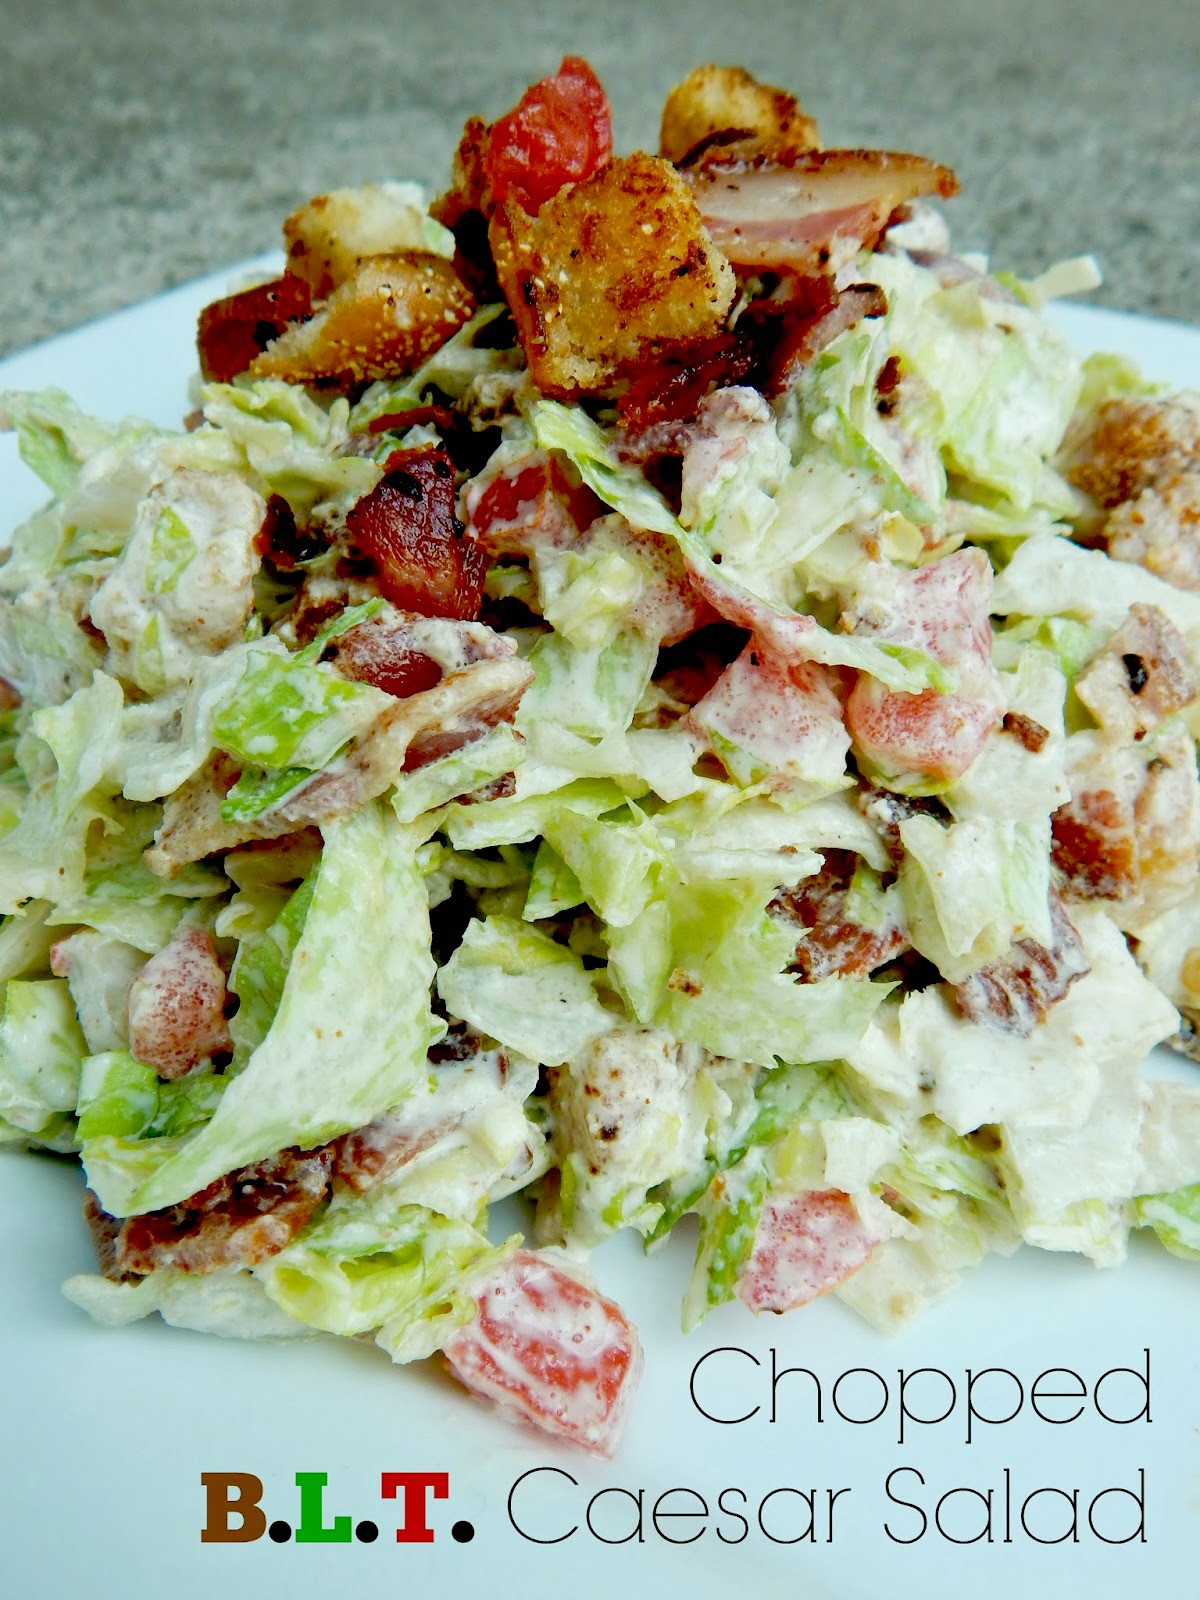chopped lettuce: (37, 593, 1158, 1269)
slice of bread: (492, 159, 742, 380)
